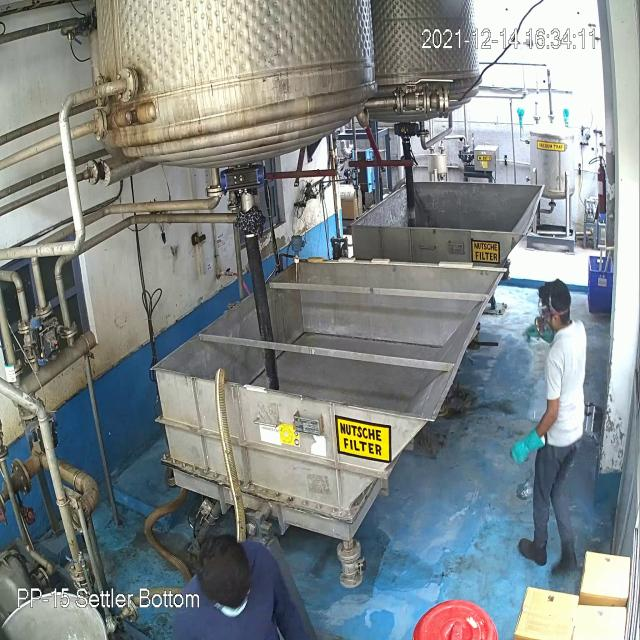gloves: (506, 424, 548, 471)
shoes: (517, 529, 551, 573)
